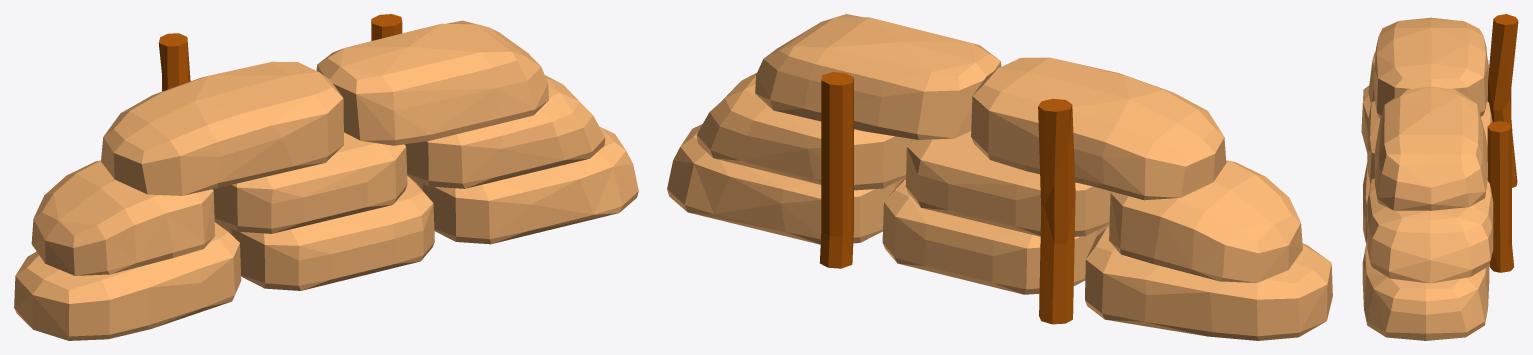
Rendered from Baricade_Sandbag_1.fbx.
3 views of the same model, side by side, from view 1: azimuth 30°, elevation 25°; view 2: azimuth 150°, elevation 25°; view 3: azimuth 270°, elevation 25° (orthographic). The views are drawn at different scales.
Parts seen in each view (by area): view 1: Baricade_Sandbag_1; view 2: Baricade_Sandbag_1; view 3: Baricade_Sandbag_1.
Part boxes in pixels (x1,y1,x2,y2): Baricade_Sandbag_1: (14,14,638,340); Baricade_Sandbag_1: (667,14,1332,340); Baricade_Sandbag_1: (1361,14,1518,340).
Bounding box in the file's own units: 360 × 115 × 99.85.
